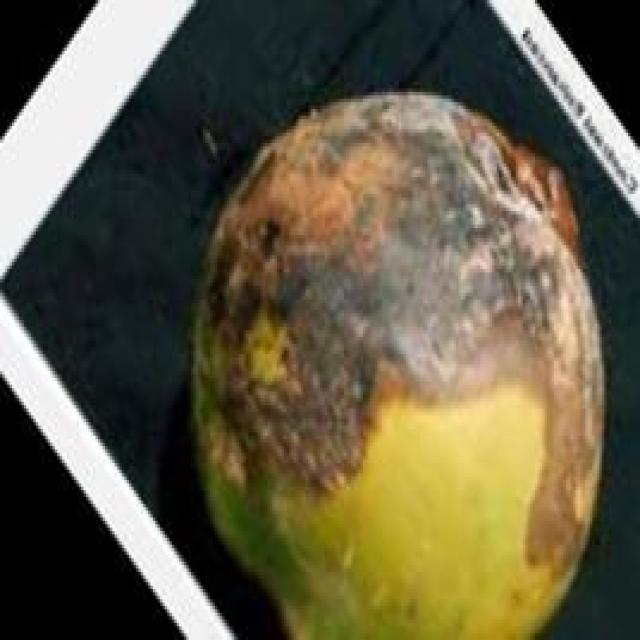damaged: (189, 92, 607, 637)
